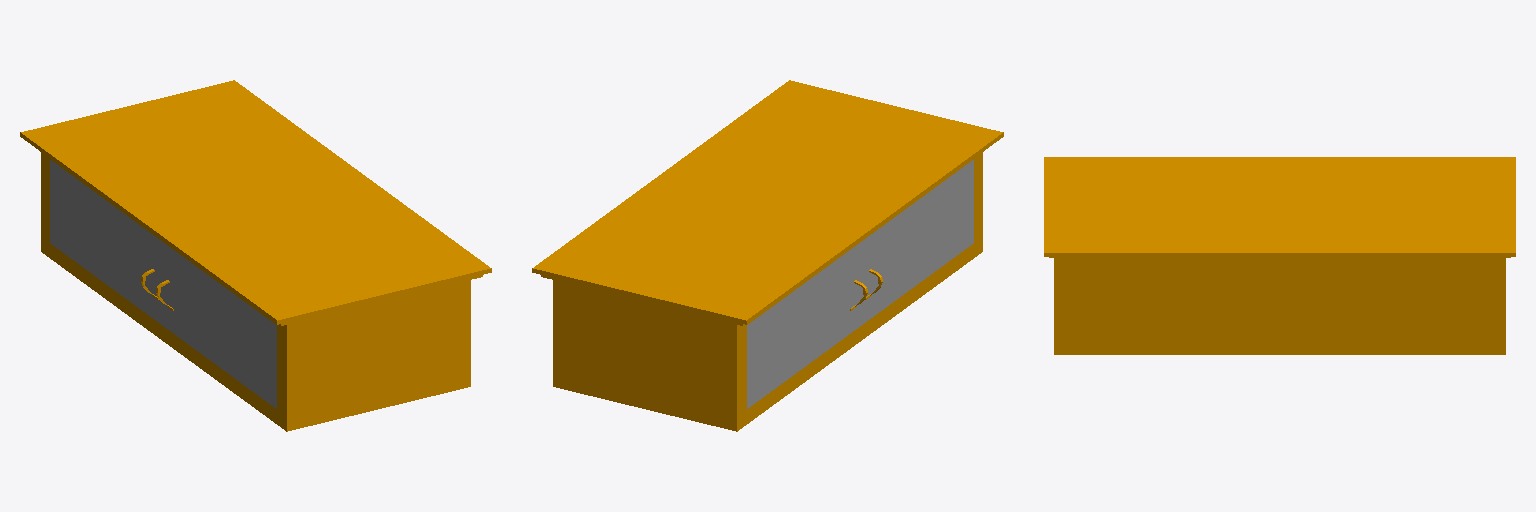
The robot description file, URDF, robot "tv_table_model":
<robot name="tv_table_model">
  <link name="tv_table">
    <inertial>
      <mass value="10.0" />
      <inertia  ixx="1.0" ixy="0.0"  ixz="0.0"  iyy="10.0"  iyz="0.0"  izz="1.0" />
    </inertial>
    <visual>
      <geometry>
        <mesh filename="package://models_pkg/models/living_room/tv_table.dae" scale="1 1 1"/>
      </geometry>	
    </visual>
    <collision>
      <geometry>
        <mesh filename="package://models_pkg/models/living_room/tv_table.dae" scale="1 1 1"/>
      </geometry>
    </collision>
  </link>
  
</robot>

--- What the picture shows (computed from the rendered views, not written in the file) ---
The picture shows the robot from 3 angles, left to right: view 1: azimuth 30°, elevation 25°; view 2: azimuth 150°, elevation 25°; view 3: azimuth 270°, elevation 25°; orthographic projection.
Model tv_table_model with 1 links and 0 joints (none), rooted at tv_table, posed every joint at zero.
Links seen in each view (by area): view 1: tv_table; view 2: tv_table; view 3: tv_table.
Boxes of the visible links, <box> form: tv_table: <box>20,80,491,431</box>; tv_table: <box>532,80,1003,431</box>; tv_table: <box>1044,157,1515,354</box>.
Size in the robot's own frame: 0.9864 by 2.05 by 0.5229 metres.
1 mesh visuals loaded from 1 distinct referenced files (1 Collada DAE).